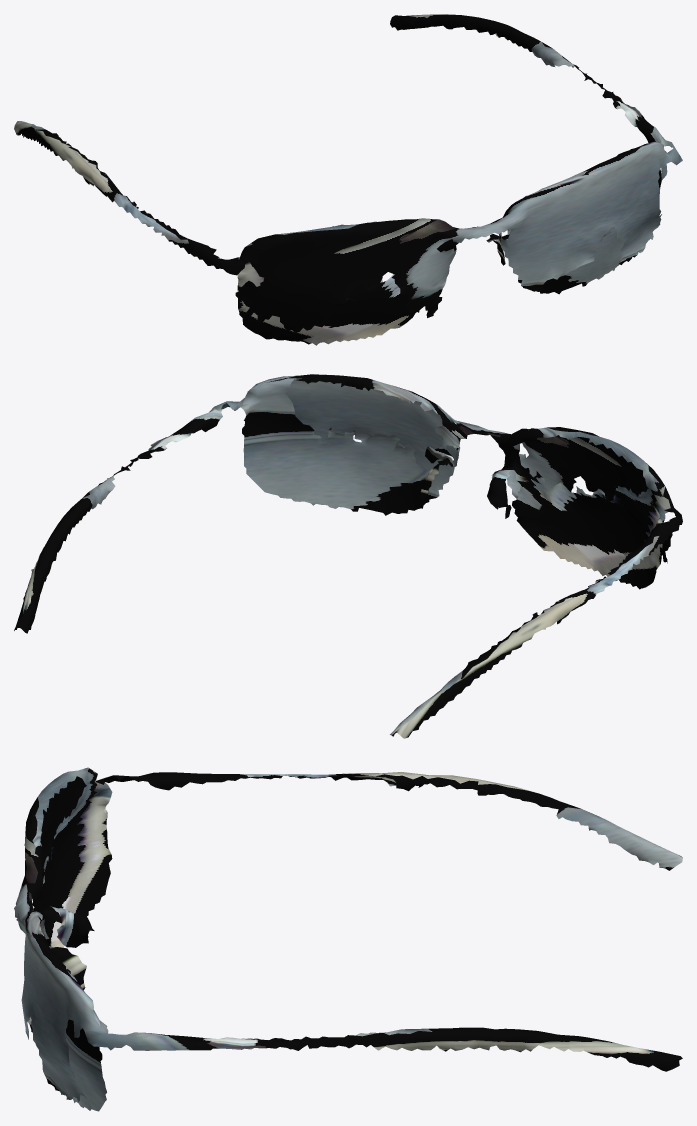
The model's file is scan_align.obj.
3 views of the same model, one above another, from view 1: azimuth 30°, elevation 25°; view 2: azimuth 150°, elevation 25°; view 3: azimuth 270°, elevation 25° (orthographic). The views are drawn at different scales.
Bounding box in the file's own units: 0.1537 × 0.0385 × 0.1558.
